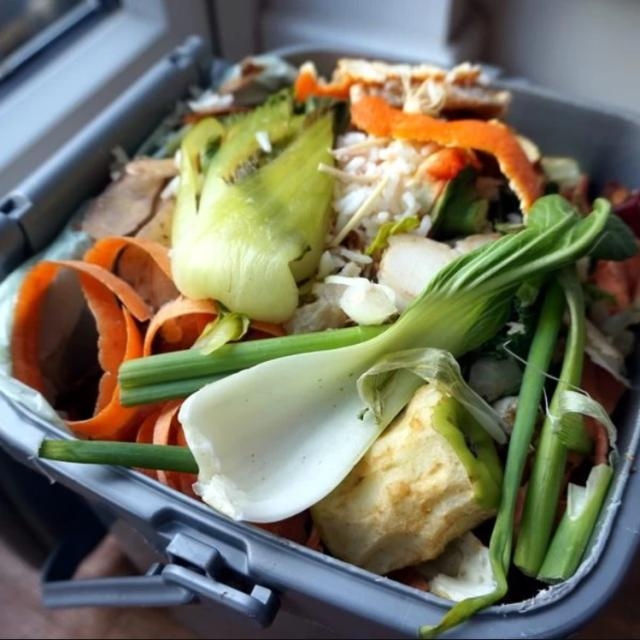organic: (137, 195, 640, 523), (8, 235, 293, 448), (314, 368, 508, 595), (170, 90, 343, 324), (348, 86, 550, 229), (525, 464, 614, 586)
